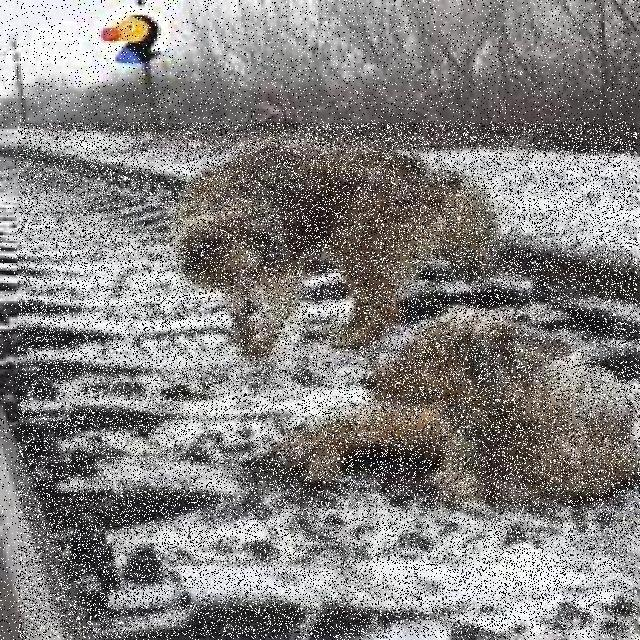rail: (20, 125, 637, 638)
